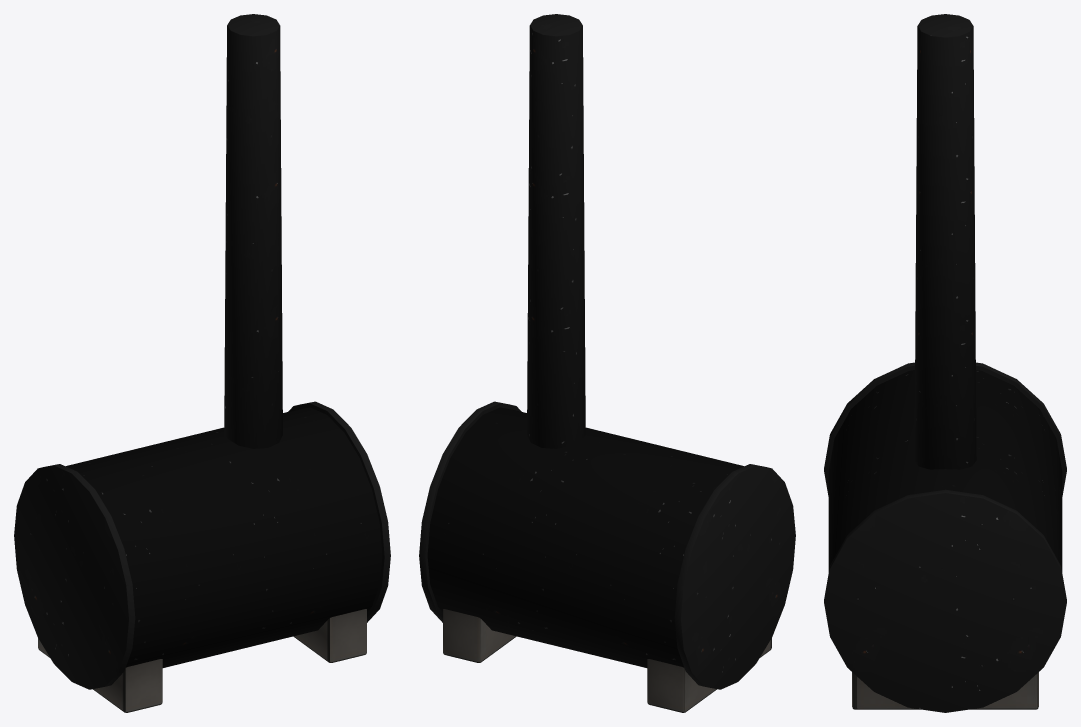
The model's file is boiler.glb.
3 views of the same model, side by side, from view 1: azimuth 30°, elevation 25°; view 2: azimuth 150°, elevation 25°; view 3: azimuth 270°, elevation 25° (orthographic). The views are drawn at different scales.
Parts seen in each view (by area): view 1: boat_iron, boat_stone; view 2: boat_iron, boat_stone; view 3: boat_iron, boat_stone.
Part boxes in pixels (bbox=[...]): boat_iron: bbox=[14, 14, 390, 689]; boat_stone: bbox=[38, 609, 366, 712]; boat_iron: bbox=[419, 14, 795, 689]; boat_stone: bbox=[443, 609, 771, 712]; boat_iron: bbox=[824, 14, 1066, 712]; boat_stone: bbox=[852, 672, 1038, 709].
Size of the model in its own units: 2.05 by 4.6 by 1.56.
2 materials, 2 textured.
